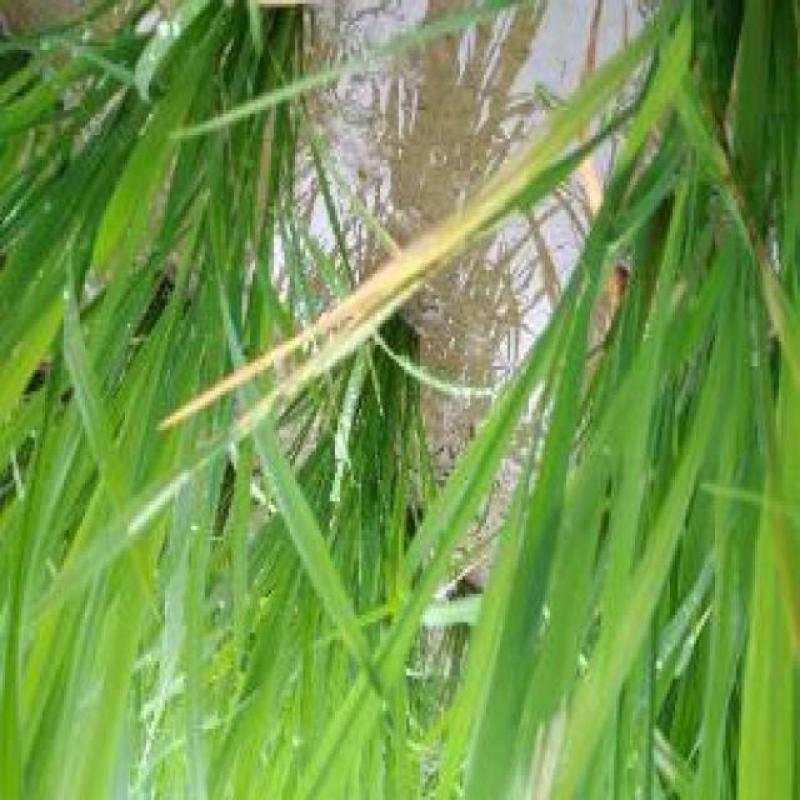Rice Tungro: (288, 172, 488, 427)
